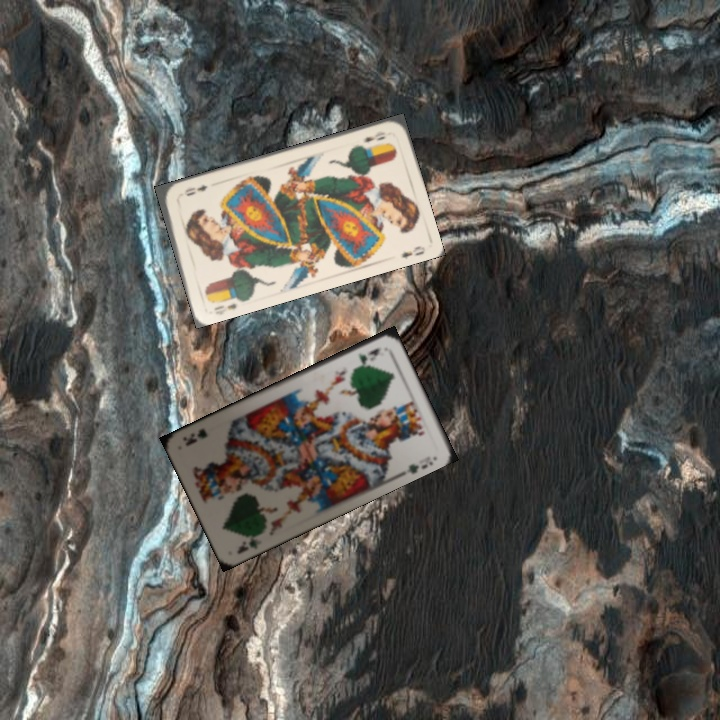EO: (360, 127, 389, 145), (210, 299, 239, 317)
GK: (233, 527, 266, 556), (354, 343, 384, 366)
